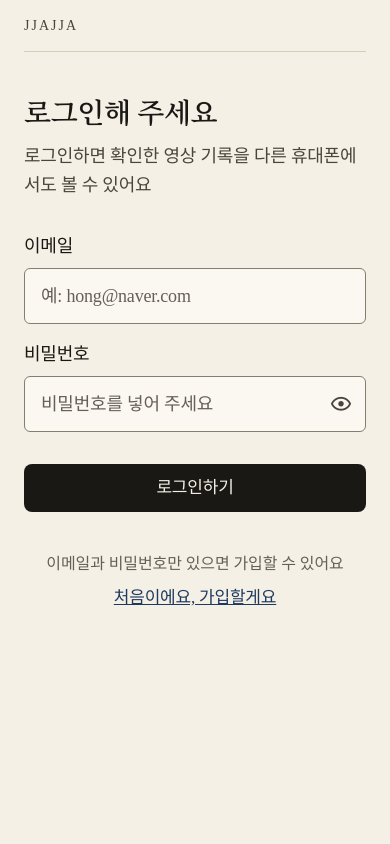
Scenario: App: 로그인 필수 흐름 › 로그인 실패 → 쉬운 문구, 빈칸은 서버에 보내지 않음
Click the button with test id "login-submit" at coordinates (195, 488), box [24,464,366,512]
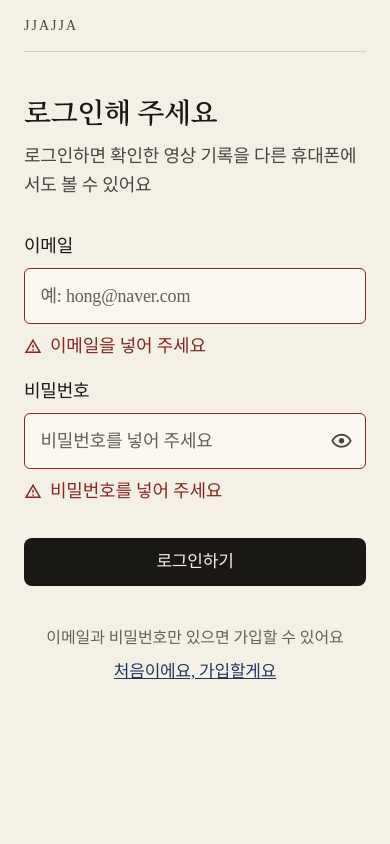
Result: the text "이메일을 넣어 주세요" is shown at [50,336,206,356]
Result: the text "비밀번호를 넣어 주세요" is shown at [50,481,222,501]
Type "hong@naver.com" into the field with test id "login-email" at coordinates (195, 296), box [40,270,350,322]
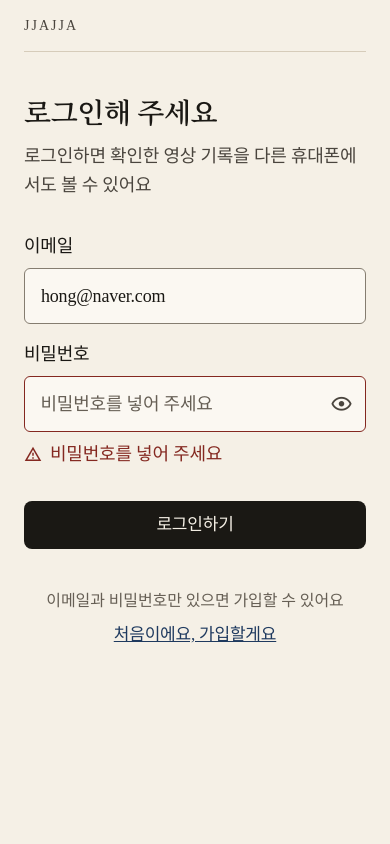
Type "wrongpass" into the password field with test id "login-password" at coordinates (181, 404), box [40,378,322,430]
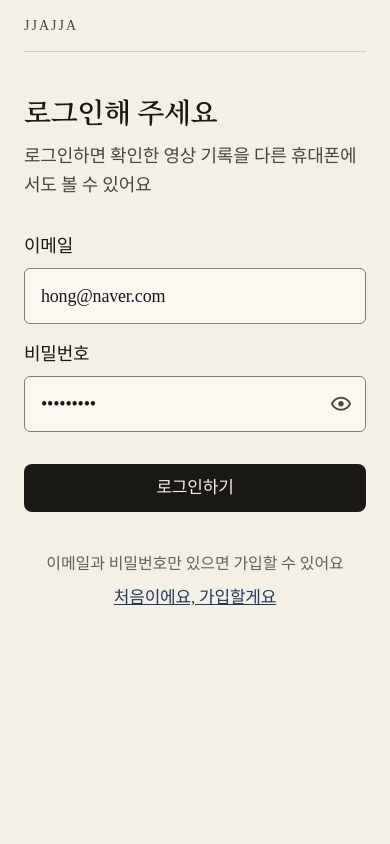
Click the button with test id "login-submit" at coordinates (195, 488), box [24,464,366,512]
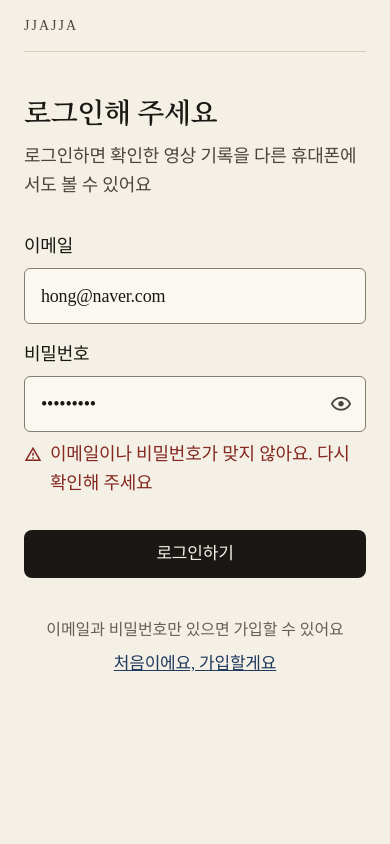
Result: the text "이메일이나 비밀번호가 맞지 않아요. 다시 확인해 주세요" is shown at [50,440,366,498]
